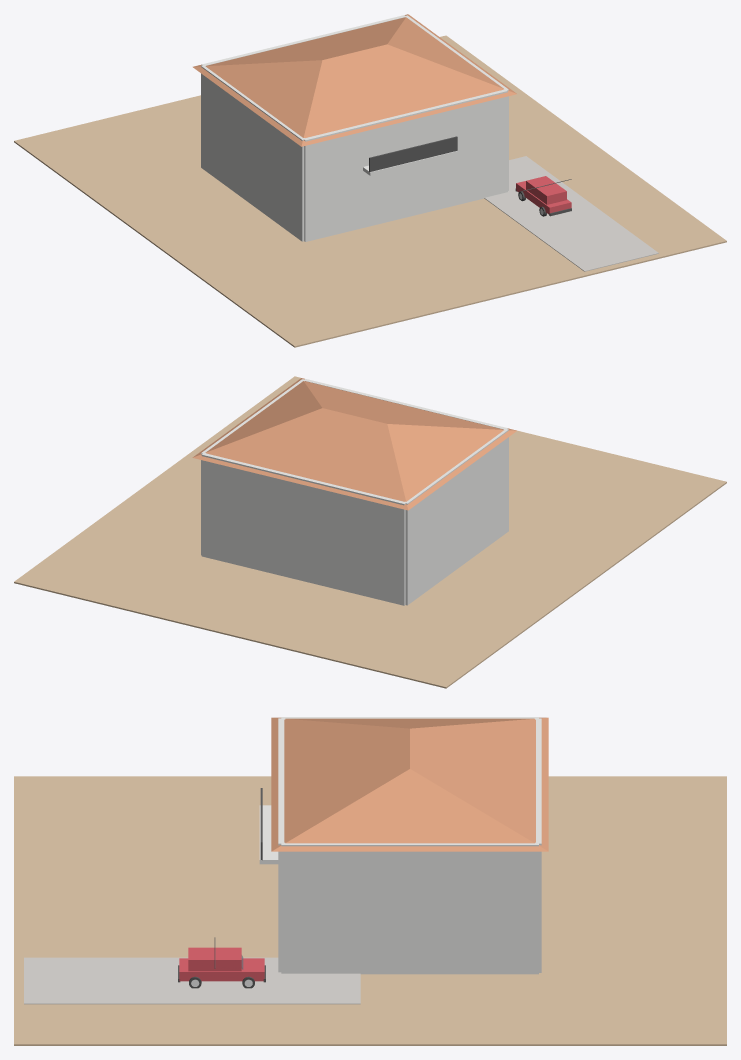
Rendered from jesse_pinkman_house.glb.
3 views of the same model, one above another, from view 1: azimuth 30°, elevation 25°; view 2: azimuth 150°, elevation 25°; view 3: azimuth 270°, elevation 25° (orthographic). The views are drawn at different scales.
Visible parts, largest first — view 1: Jesse_Pinkman_House_lot, Jesse_Pinkman_House_tile_roof, Jesse_Pinkman_House_ext_s, Jesse_Pinkman_House_ext_w, Jesse_Pinkman_House_drive, Jesse_Pinkman_House_balc_rail, Jesse_Pinkman_House_Tercel_cabin, Jesse_Pinkman_House_ext_n; view 2: Jesse_Pinkman_House_lot, Jesse_Pinkman_House_tile_roof, Jesse_Pinkman_House_ext_n, Jesse_Pinkman_House_ext_w, Jesse_Pinkman_House_ext_s; view 3: Jesse_Pinkman_House_lot, Jesse_Pinkman_House_tile_roof, Jesse_Pinkman_House_ext_e, Jesse_Pinkman_House_drive, Jesse_Pinkman_House_ext_s, Jesse_Pinkman_House_Tercel_cabin, Jesse_Pinkman_House_Tercel_body, Jesse_Pinkman_House_ext_n, Jesse_Pinkman_House_balcony.
Part boxes in pixels (x1=…): Jesse_Pinkman_House_lot: x1=14, y1=35, x2=726, y2=347; Jesse_Pinkman_House_tile_roof: x1=193, y1=14, x2=516, y2=146; Jesse_Pinkman_House_ext_s: x1=303, y1=89, x2=507, y2=241; Jesse_Pinkman_House_ext_w: x1=201, y1=65, x2=305, y2=241; Jesse_Pinkman_House_drive: x1=484, y1=156, x2=658, y2=271; Jesse_Pinkman_House_balc_rail: x1=369, y1=136, x2=457, y2=171; Jesse_Pinkman_House_Tercel_cabin: x1=526, y1=176, x2=566, y2=204; Jesse_Pinkman_House_ext_n: x1=201, y1=15, x2=405, y2=65; Jesse_Pinkman_House_lot: x1=14, y1=376, x2=726, y2=688; Jesse_Pinkman_House_tile_roof: x1=192, y1=378, x2=516, y2=510; Jesse_Pinkman_House_ext_n: x1=201, y1=453, x2=406, y2=605; Jesse_Pinkman_House_ext_w: x1=405, y1=429, x2=508, y2=605; Jesse_Pinkman_House_ext_s: x1=304, y1=379, x2=507, y2=429; Jesse_Pinkman_House_lot: x1=14, y1=776, x2=726, y2=1045; Jesse_Pinkman_House_tile_roof: x1=271, y1=717, x2=548, y2=851; Jesse_Pinkman_House_ext_e: x1=281, y1=842, x2=538, y2=974; Jesse_Pinkman_House_drive: x1=24, y1=957, x2=360, y2=1004; Jesse_Pinkman_House_ext_s: x1=278, y1=718, x2=284, y2=972; Jesse_Pinkman_House_Tercel_cabin: x1=188, y1=947, x2=241, y2=971; Jesse_Pinkman_House_Tercel_body: x1=179, y1=958, x2=264, y2=981; Jesse_Pinkman_House_ext_n: x1=536, y1=718, x2=541, y2=972; Jesse_Pinkman_House_balcony: x1=259, y1=805, x2=278, y2=864.
Size of what is drawn, in the model's own units: 32 by 9.1 by 36.
